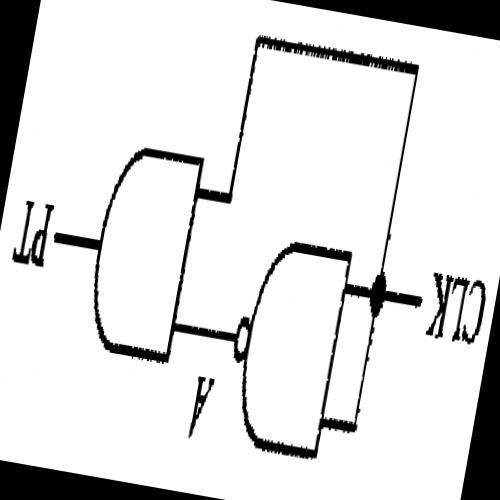and: (72, 126, 212, 380)
nand: (208, 217, 360, 478)
